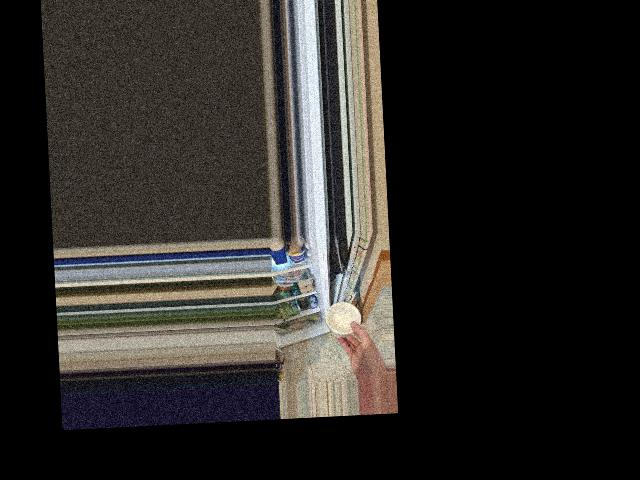cotage: (323, 296, 359, 335)
